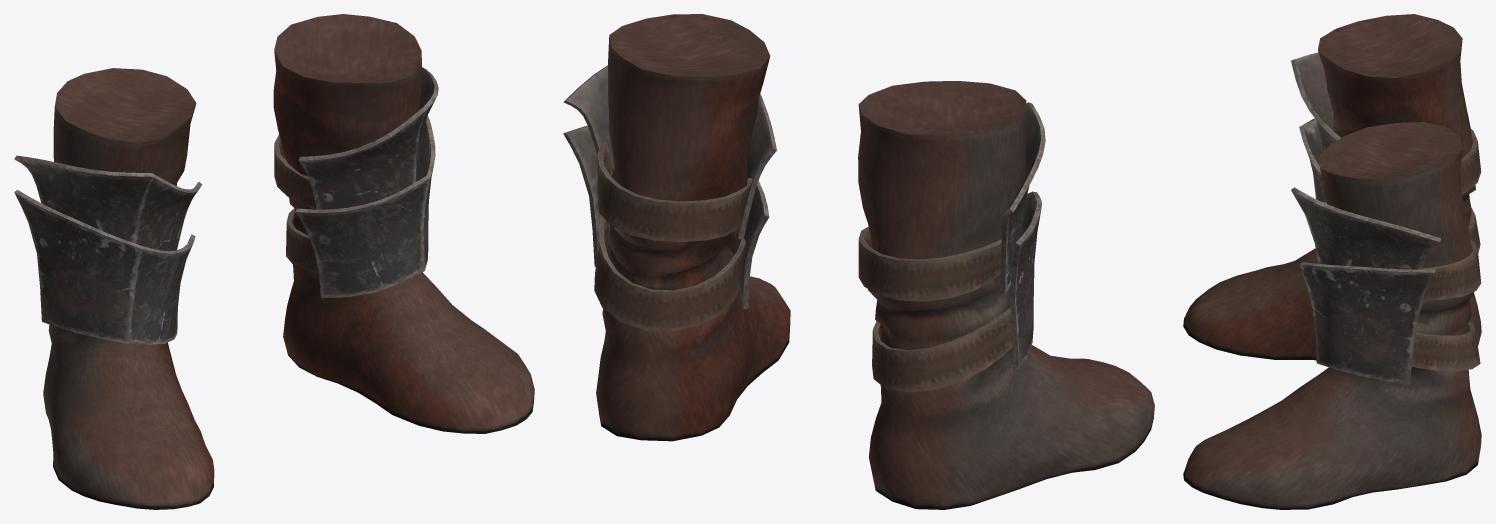
File: sk_dg_uruk_boots_med_a.fbx
3 views of the same model, side by side, from view 1: azimuth 30°, elevation 25°; view 2: azimuth 150°, elevation 25°; view 3: azimuth 270°, elevation 25° (orthographic). The views are drawn at different scales.
Visible parts, largest first — view 1: sk_dg_uruk_boots_med_a.0, sk_dg_uruk_boots_med_a.1; view 2: sk_dg_uruk_boots_med_a.0, sk_dg_uruk_boots_med_a.1; view 3: sk_dg_uruk_boots_med_a.0, sk_dg_uruk_boots_med_a.1.
Boxes of the visible parts, <box> form: sk_dg_uruk_boots_med_a.0: <box>14,14,534,509</box>; sk_dg_uruk_boots_med_a.1: <box>274,134,318,273</box>; sk_dg_uruk_boots_med_a.0: <box>563,14,1154,509</box>; sk_dg_uruk_boots_med_a.1: <box>594,141,1012,392</box>; sk_dg_uruk_boots_med_a.0: <box>1183,14,1481,509</box>; sk_dg_uruk_boots_med_a.1: <box>1411,128,1481,371</box>.
Bounding box in the file's own units: 0.5637 × 0.3359 × 0.389.
2 materials, 2 textured.
